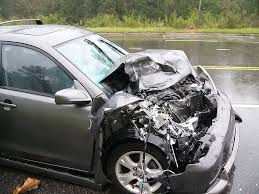Smashed: (105, 48, 223, 172)
